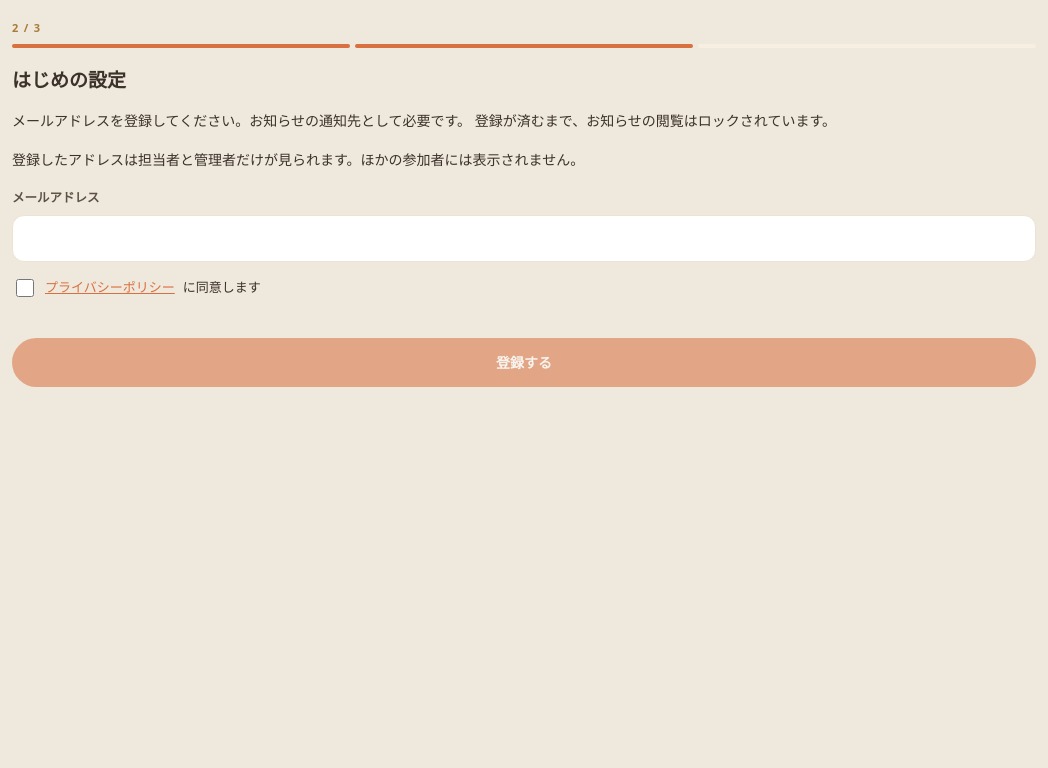
SetupView › queues the registration through the inbox
Click the checkbox with test id "agree" showing "プライバシーポリシー に同意します" at (25, 288), box [16,279,34,297]
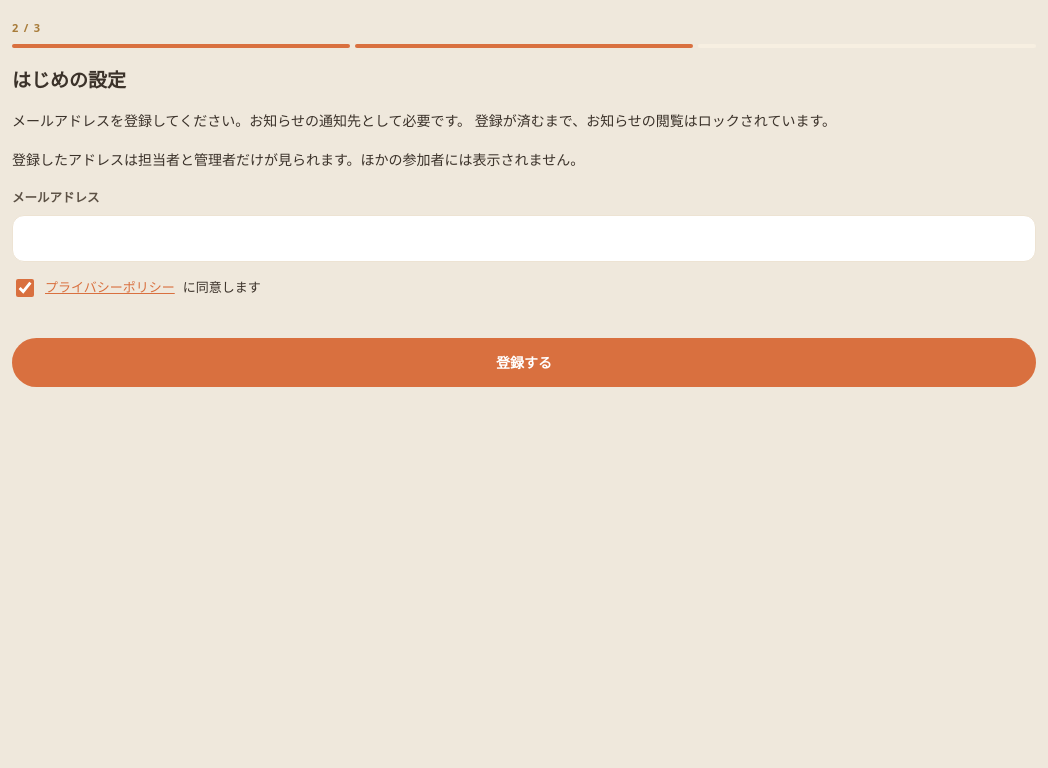
Type "sakura@example.com" into the field with test id "email" at (524, 238), box [12,215,1036,262]
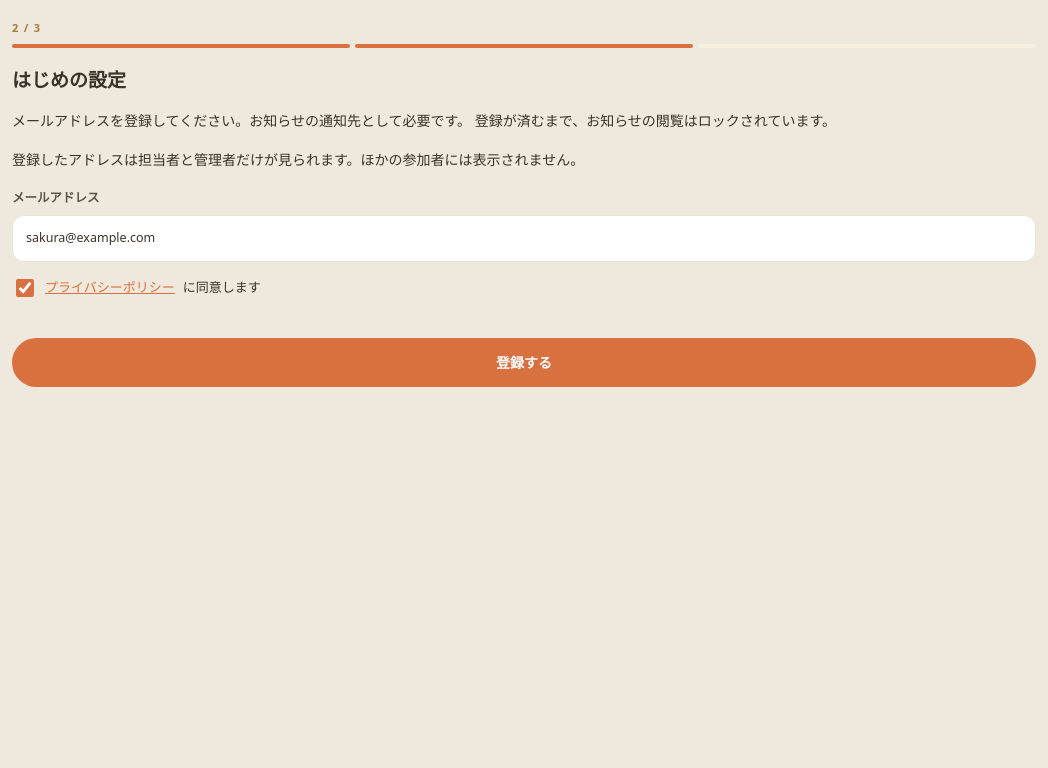
Click the button with test id "register" at (524, 362), box [12,338,1036,387]
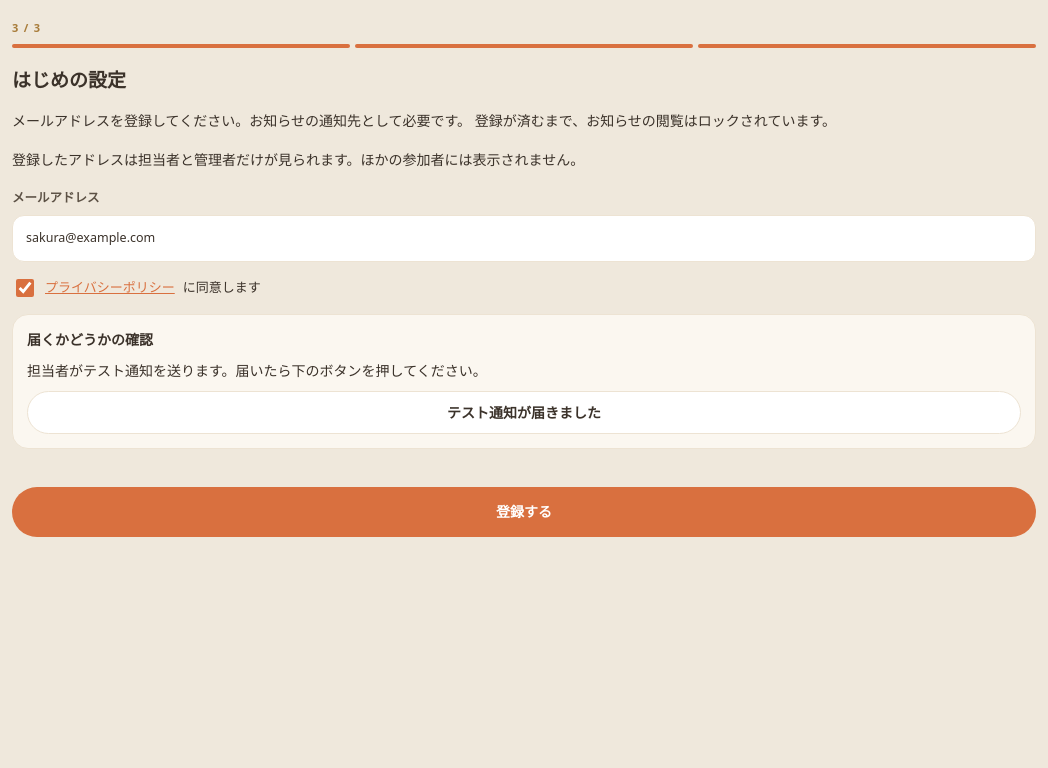
Now the button with test id "confirm" is shown, box [27,391,1021,434]
